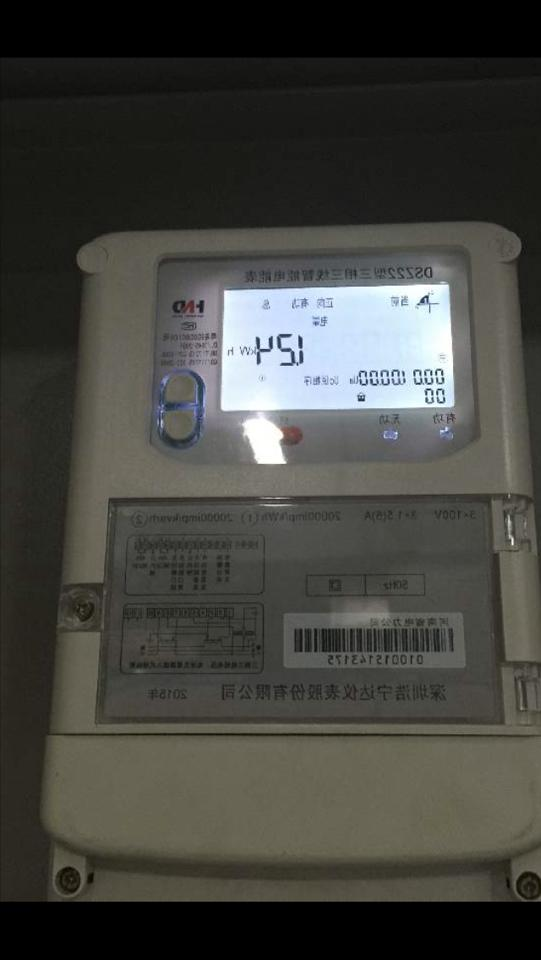digital: (37, 223, 540, 864)
